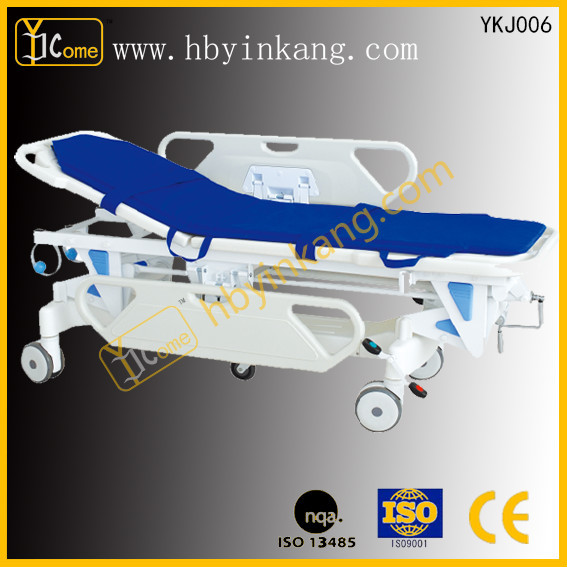trolley_bed: (15, 123, 557, 436)
